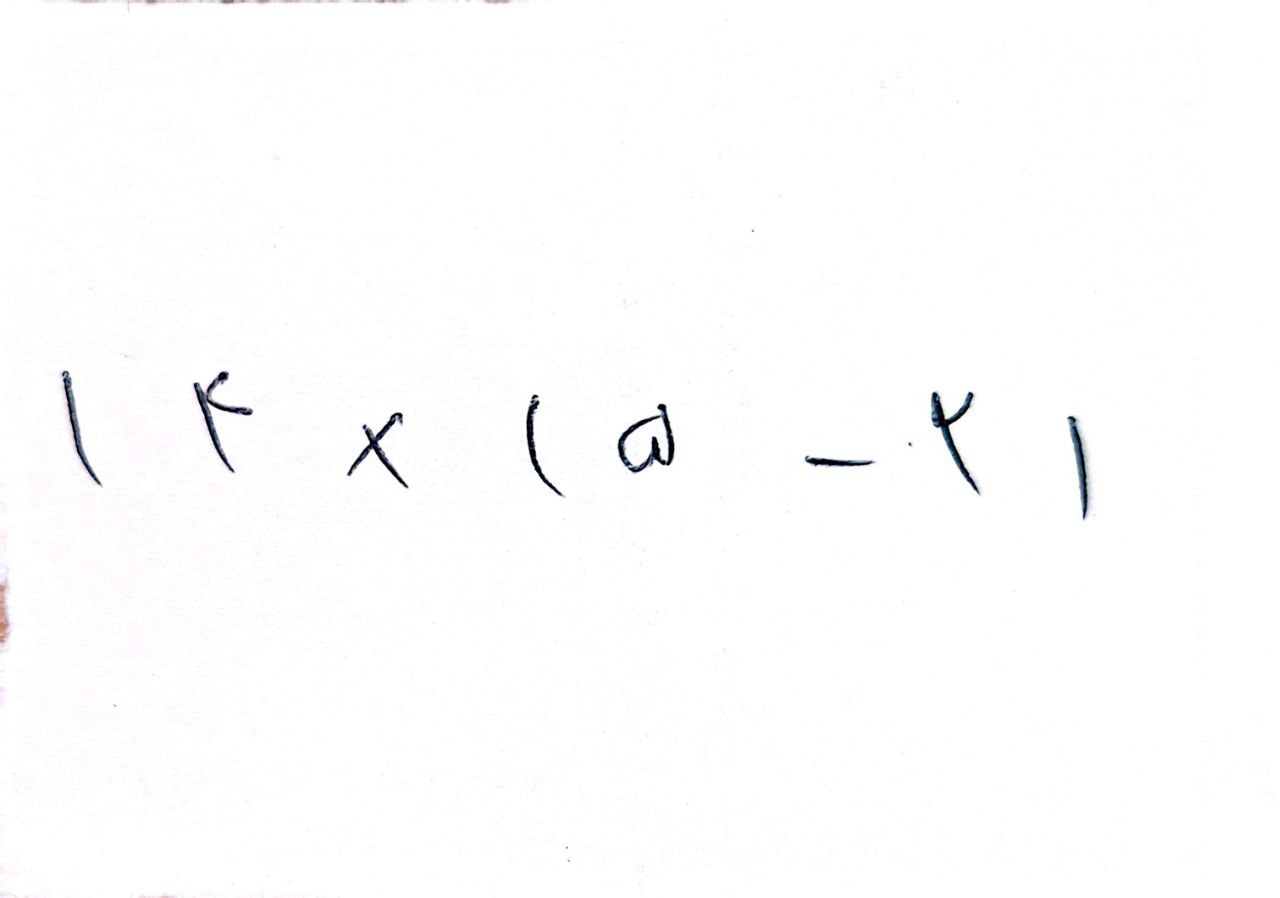character: (190, 362, 258, 475), (928, 386, 984, 496), (341, 408, 413, 491), (61, 368, 107, 491), (523, 391, 573, 502), (616, 399, 679, 477), (1065, 412, 1094, 522), (804, 455, 877, 471)
